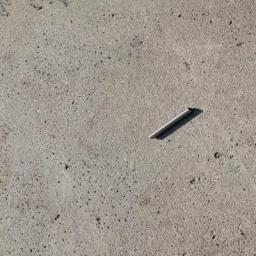FOD: (149, 102, 205, 146)
